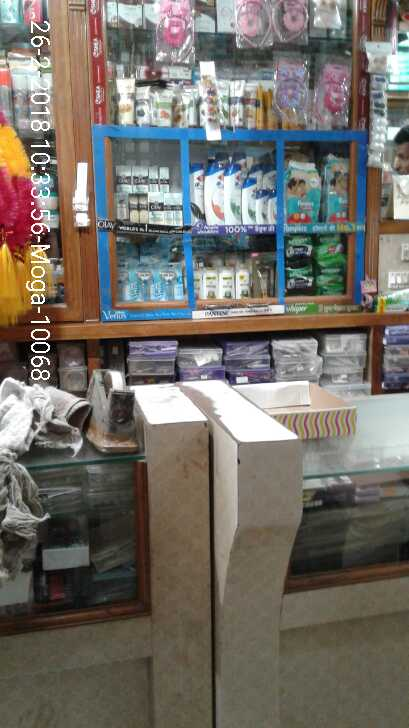venus: (128, 267, 158, 299), (158, 263, 183, 299)
